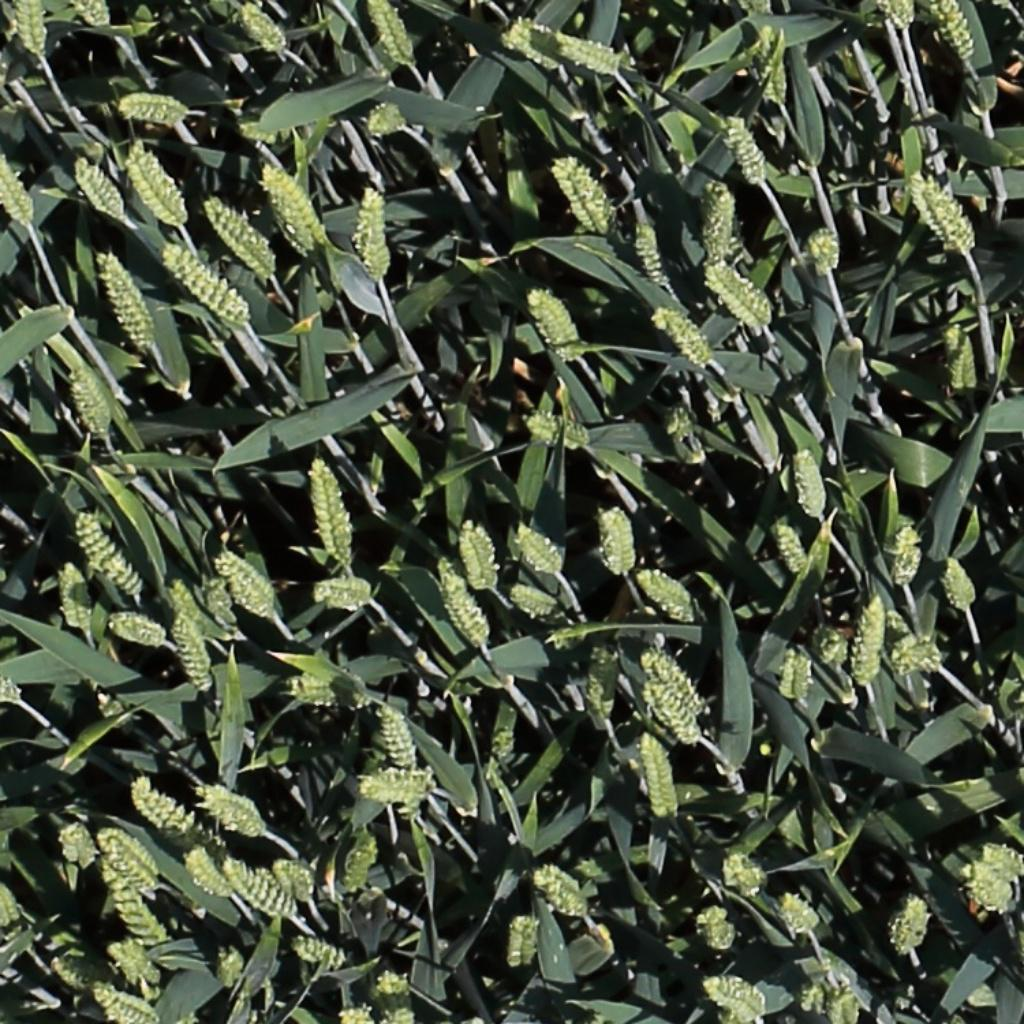0-0: (129, 776, 231, 862), (161, 238, 248, 323), (98, 851, 169, 954), (70, 507, 146, 600), (259, 158, 330, 253), (907, 167, 980, 258), (202, 192, 278, 279), (94, 247, 155, 352), (552, 151, 618, 238), (124, 141, 189, 228), (536, 18, 627, 80), (436, 561, 494, 655), (309, 456, 352, 569), (643, 674, 705, 752), (707, 259, 775, 330), (641, 647, 708, 718), (527, 281, 585, 361), (843, 593, 890, 688), (223, 860, 296, 921), (653, 303, 718, 371), (69, 150, 129, 223), (269, 671, 374, 712), (494, 12, 565, 72), (212, 548, 278, 611), (348, 181, 389, 282), (640, 729, 681, 828), (95, 823, 159, 886), (170, 608, 214, 699), (723, 106, 772, 187), (65, 360, 113, 442), (374, 697, 421, 778), (367, 0, 419, 72), (196, 787, 264, 838), (112, 90, 202, 128), (88, 981, 166, 1024), (0, 141, 38, 229), (637, 569, 700, 622), (880, 615, 936, 674), (165, 573, 212, 643), (933, 0, 980, 69), (633, 214, 674, 293), (793, 441, 831, 524), (512, 520, 567, 577), (958, 865, 1013, 922), (887, 888, 931, 959), (771, 514, 815, 584), (184, 847, 236, 906), (705, 977, 770, 1024), (941, 321, 984, 391), (458, 517, 495, 598), (753, 21, 790, 102), (339, 830, 380, 903), (357, 767, 435, 805), (533, 864, 588, 916), (369, 965, 417, 1024), (237, 2, 290, 55), (309, 575, 381, 614), (603, 502, 636, 584), (57, 557, 90, 638), (940, 550, 978, 618), (707, 178, 735, 270), (202, 570, 240, 637), (271, 857, 318, 909), (723, 849, 768, 902), (587, 645, 615, 727), (106, 937, 151, 987), (894, 518, 922, 592), (60, 819, 95, 877), (527, 415, 592, 446), (775, 644, 811, 699), (779, 894, 824, 937), (510, 909, 537, 980), (106, 615, 169, 645), (824, 978, 865, 1024), (47, 954, 94, 992), (813, 622, 851, 669), (811, 222, 841, 281), (292, 937, 349, 968), (19, 0, 47, 61), (704, 902, 734, 958), (215, 940, 245, 995), (984, 844, 1024, 880), (509, 587, 559, 615), (0, 873, 20, 935), (883, 0, 918, 35), (799, 975, 827, 1018), (75, 0, 113, 30), (365, 103, 408, 129), (0, 667, 21, 701)
